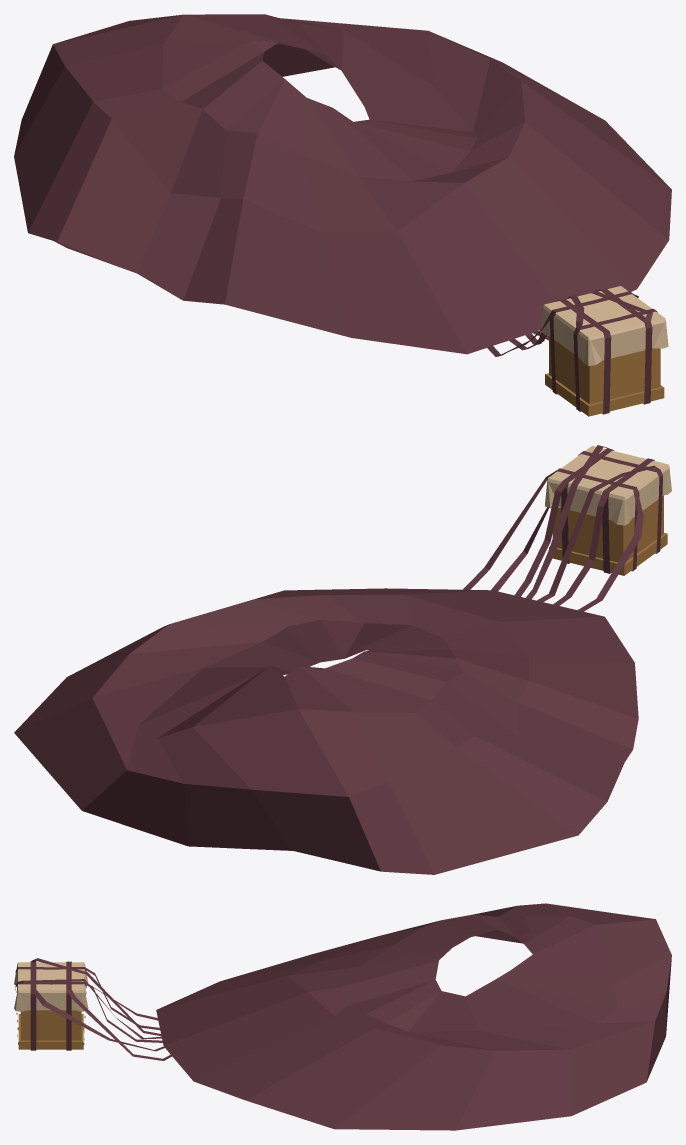
The model's file is crate-supply-parachute.fbx.
The picture shows the model from 3 angles, top to bottom: view 1: azimuth 30°, elevation 25°; view 2: azimuth 150°, elevation 25°; view 3: azimuth 270°, elevation 25°; orthographic projection. The views are drawn at different scales.
Visible parts, largest first — view 1: crate-supply-parachute; view 2: crate-supply-parachute; view 3: crate-supply-parachute.
Boxes of the visible parts, x1,y1,x2,y2 form: crate-supply-parachute: (14, 14, 671, 416); crate-supply-parachute: (14, 445, 671, 874); crate-supply-parachute: (14, 903, 671, 1130).
Size of the model in its own units: 10.82 by 2.36 by 15.17.
